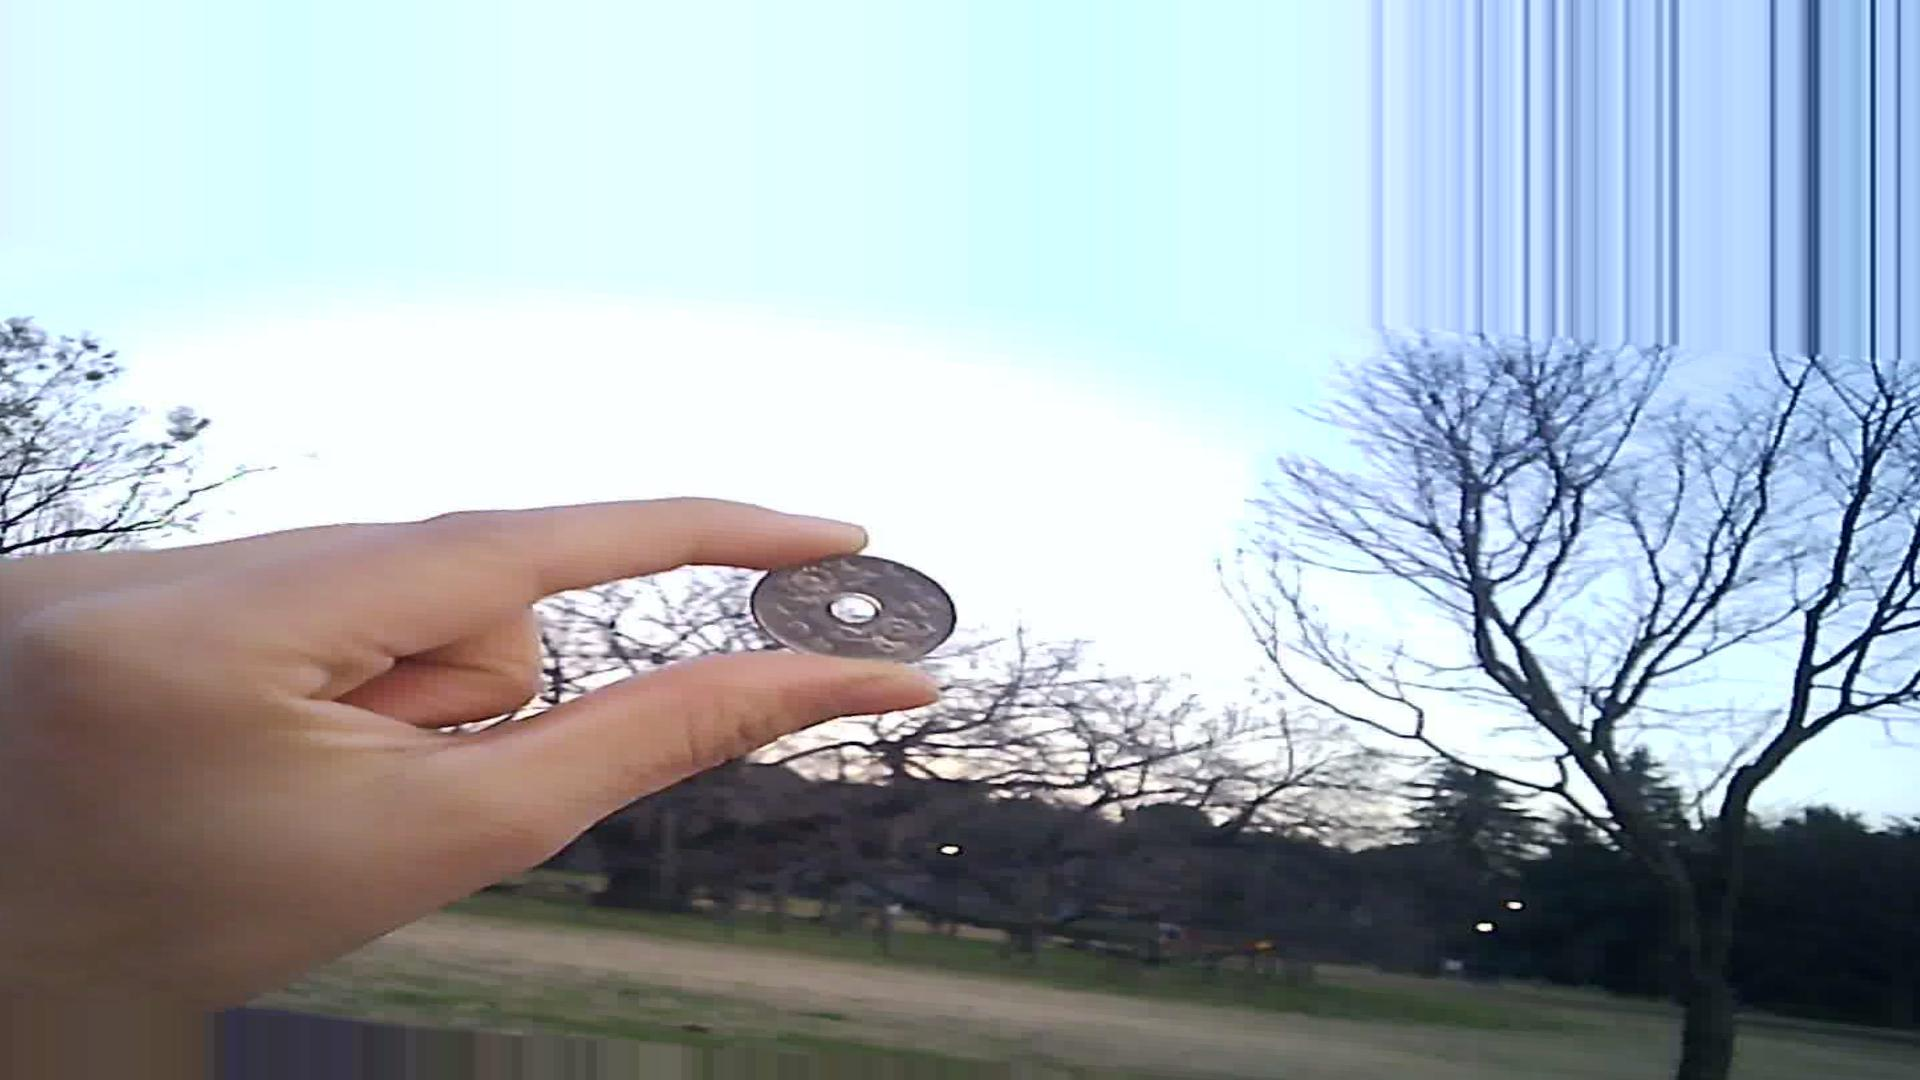50 Yen: (752, 533, 964, 694)
